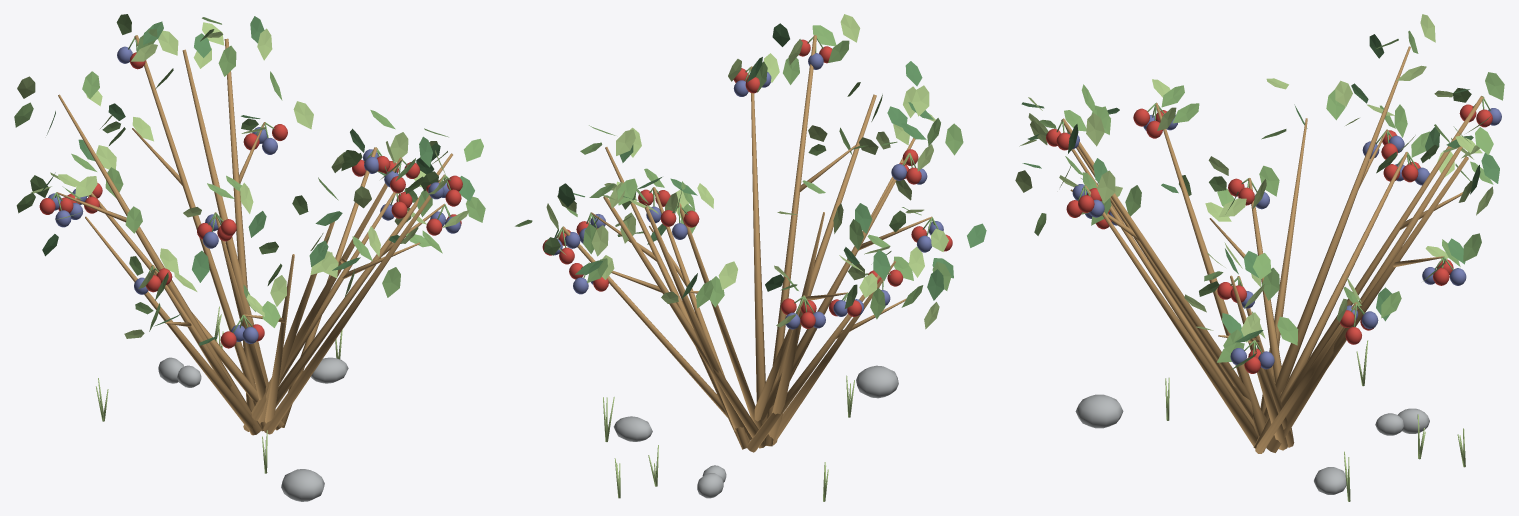
The model's file is berry_bush_c.glb.
3 views of the same model, side by side, from view 1: azimuth 30°, elevation 25°; view 2: azimuth 150°, elevation 25°; view 3: azimuth 270°, elevation 25° (orthographic). The views are drawn at different scales.
Visible parts, largest first — view 1: berry_bush_c_stem_13, berry_bush_c_stem_4, berry_bush_c_stem_6, berry_bush_c_stem_3, berry_bush_c_stem_14, berry_bush_c_stem_7, berry_bush_c_stem_2, berry_bush_c_stem_12, berry_bush_c_stem_5, berry_bush_ground_rock_3, berry_bush_c_stem_10, berry_bush_c_stem_9 (+5 smaller); view 2: berry_bush_c_stem_13, berry_bush_c_stem_12, berry_bush_c_stem_2, berry_bush_c_stem_3, berry_bush_c_stem_6, berry_bush_c_stem_9, berry_bush_c_stem_8, berry_bush_c_stem_4, berry_bush_c_stem_1, berry_bush_c_stem_11, berry_bush_c_stem_7, berry_bush_c_stem_14 (+5 smaller); view 3: berry_bush_c_stem_6, berry_bush_c_stem_3, berry_bush_c_stem_13, berry_bush_c_stem_12, berry_bush_c_stem_4, berry_bush_c_stem_5, berry_bush_c_stem_9, berry_bush_c_stem_10, berry_bush_c_stem_2, berry_bush_c_stem_7, berry_bush_ground_rock_3, berry_bush_c_stem_11 (+6 smaller).
Boxes of the visible parts, box(x1,y1,x2,y2) form: berry_bush_c_stem_13: box(263, 174, 445, 434); berry_bush_c_stem_4: box(134, 35, 265, 431); berry_bush_c_stem_6: box(58, 94, 262, 435); berry_bush_c_stem_3: box(182, 49, 268, 386); berry_bush_c_stem_14: box(275, 153, 452, 407); berry_bush_c_stem_7: box(85, 216, 259, 434); berry_bush_c_stem_2: box(224, 38, 254, 410); berry_bush_c_stem_12: box(243, 157, 402, 431); berry_bush_c_stem_5: box(90, 192, 284, 430); berry_bush_ground_rock_3: box(281, 469, 324, 501); berry_bush_c_stem_10: box(265, 254, 294, 423); berry_bush_c_stem_9: box(214, 212, 265, 400); berry_bush_c_stem_13: box(750, 66, 765, 402); berry_bush_c_stem_12: box(764, 35, 816, 446); berry_bush_c_stem_2: box(603, 196, 765, 448); berry_bush_c_stem_3: box(645, 206, 749, 439); berry_bush_c_stem_6: box(768, 212, 824, 445); berry_bush_c_stem_9: box(749, 153, 910, 440); berry_bush_c_stem_8: box(747, 275, 879, 452); berry_bush_c_stem_4: box(678, 203, 762, 429); berry_bush_c_stem_1: box(561, 226, 727, 417); berry_bush_c_stem_11: box(761, 94, 876, 424); berry_bush_c_stem_7: box(773, 261, 895, 442); berry_bush_c_stem_14: box(605, 147, 749, 445); berry_bush_c_stem_6: box(1263, 46, 1410, 419); berry_bush_c_stem_3: box(1266, 136, 1466, 452); berry_bush_c_stem_13: box(1085, 185, 1256, 446); berry_bush_c_stem_12: box(1061, 118, 1267, 422); berry_bush_c_stem_4: box(1281, 96, 1484, 407); berry_bush_c_stem_5: box(1253, 152, 1407, 452); berry_bush_c_stem_9: box(1155, 103, 1265, 437); berry_bush_c_stem_10: box(1071, 149, 1258, 439); berry_bush_c_stem_2: box(1328, 156, 1468, 367); berry_bush_c_stem_7: box(1260, 118, 1307, 413); berry_bush_ground_rock_3: box(1075, 394, 1123, 428); berry_bush_c_stem_11: box(1067, 132, 1265, 423).
Bounding box in the file's own units: 1.42 × 1.14 × 1.4.
